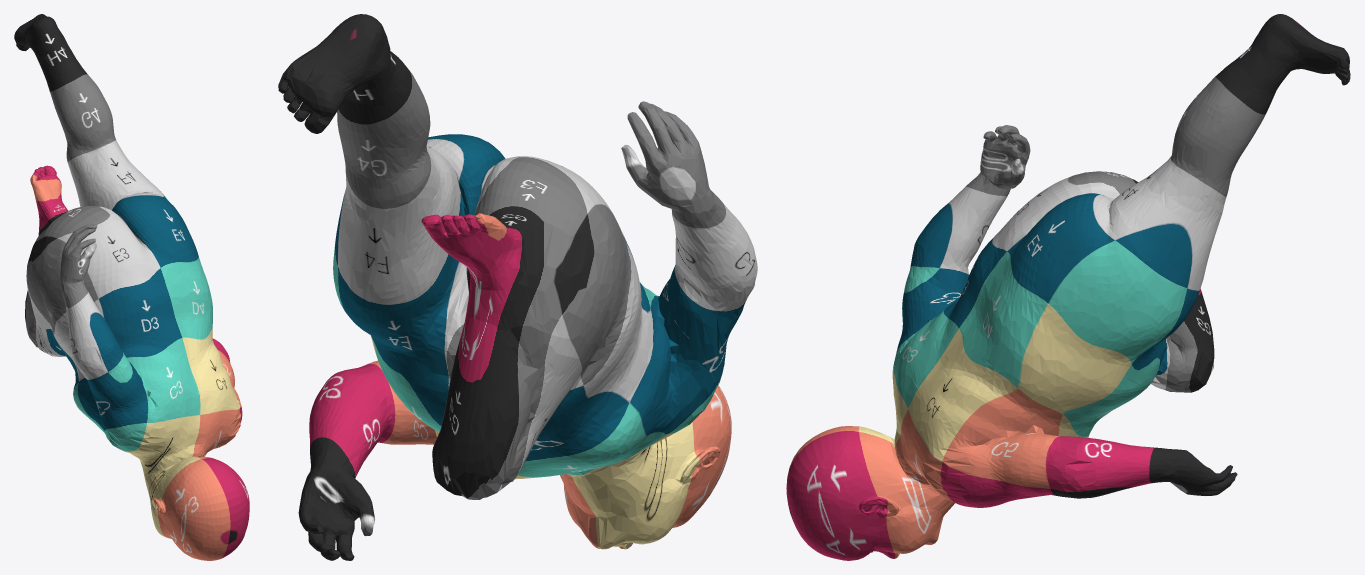
File: kid00-kid23.obj
The picture shows the model from 3 angles, left to right: view 1: azimuth 30°, elevation 25°; view 2: azimuth 150°, elevation 25°; view 3: azimuth 270°, elevation 25°; orthographic projection. The views are drawn at different scales.
Visible parts, largest first — view 1: kid00-kid23_export; view 2: kid00-kid23_export; view 3: kid00-kid23_export.
Part boxes in pixels (bbox=[...]): kid00-kid23_export: bbox=[14, 14, 249, 560]; kid00-kid23_export: bbox=[278, 14, 757, 560]; kid00-kid23_export: bbox=[786, 14, 1350, 560].
Size of the model in its own units: 0.4425 by 0.8773 by 0.8213.
1 material, 1 textured.
